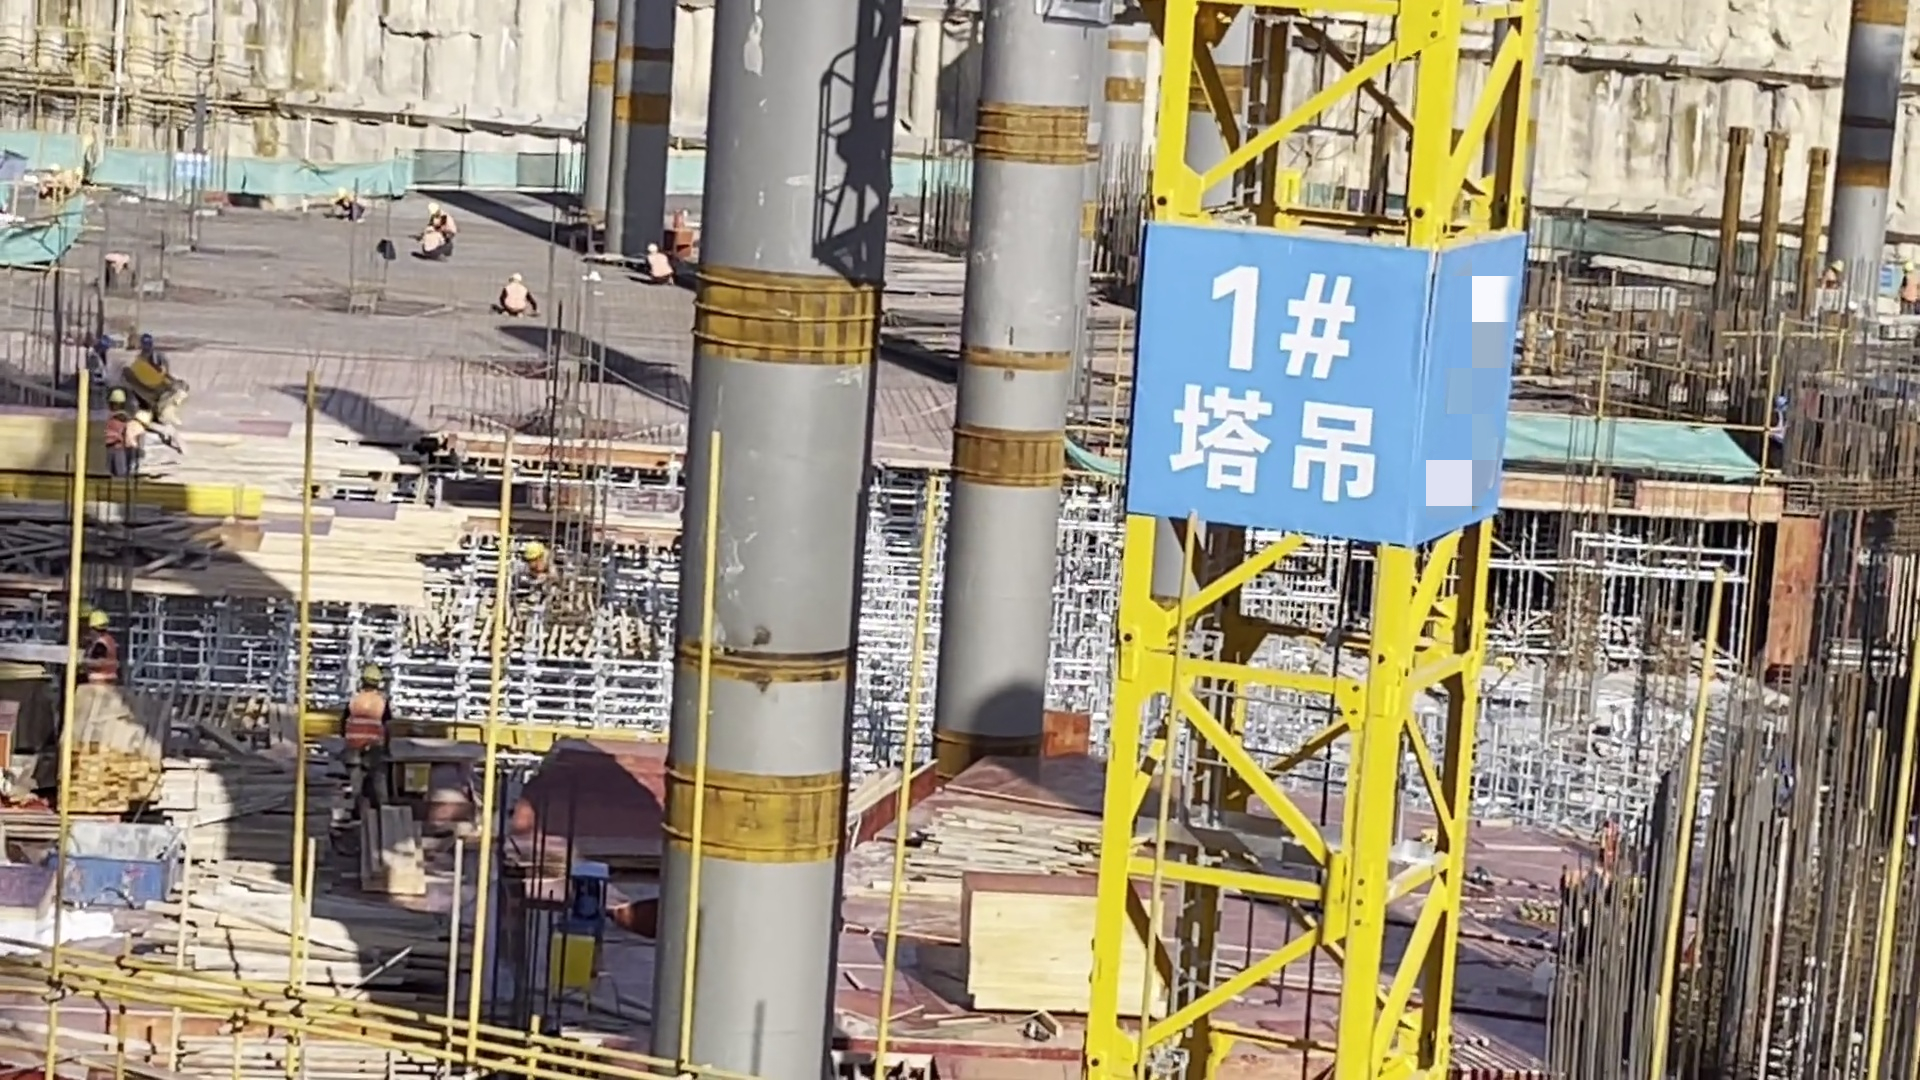helmet: (520, 538, 548, 564), (357, 663, 386, 689), (88, 609, 110, 635), (1828, 257, 1846, 276), (1901, 261, 1918, 279), (336, 185, 351, 201), (427, 201, 442, 215), (646, 242, 662, 256), (141, 333, 155, 347), (506, 274, 526, 284)
person: (341, 663, 404, 827), (84, 608, 131, 694), (98, 406, 145, 484), (136, 324, 173, 387), (497, 270, 537, 324), (429, 194, 465, 245), (89, 328, 113, 392), (1769, 391, 1787, 478), (643, 245, 681, 288), (333, 182, 366, 224), (1819, 257, 1851, 297), (416, 224, 445, 266), (1897, 263, 1920, 302)
vest: (346, 689, 394, 747), (86, 632, 122, 689), (105, 419, 135, 451), (503, 285, 531, 315)
